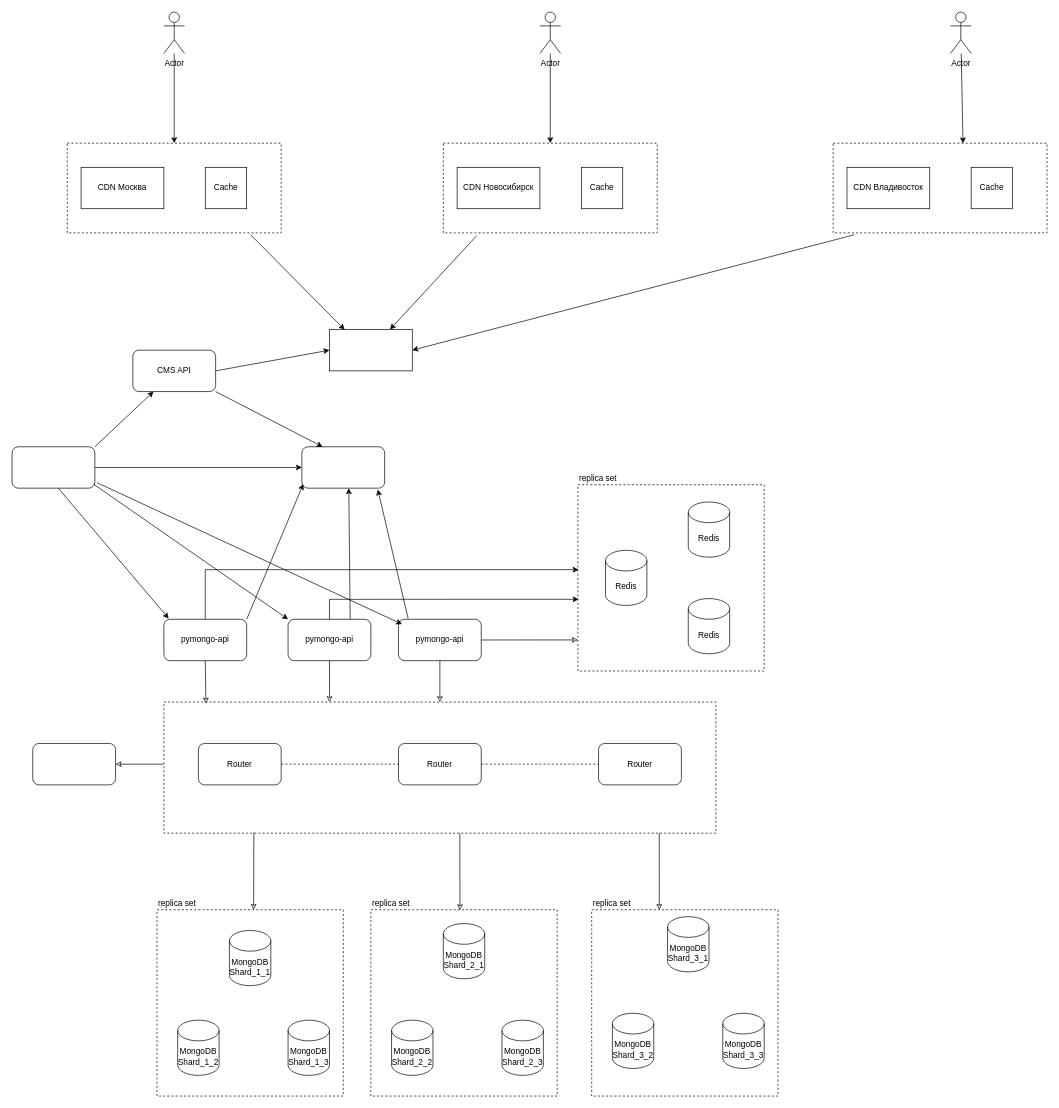
This 1059x1108 diagram has some shape labels left out. The centre of each missing label's shape, as x and y in pixels:
API Gateway: point 53,467
ConfigServer: point 74,764
consul: point 343,467
S3 storage: point 370,350
